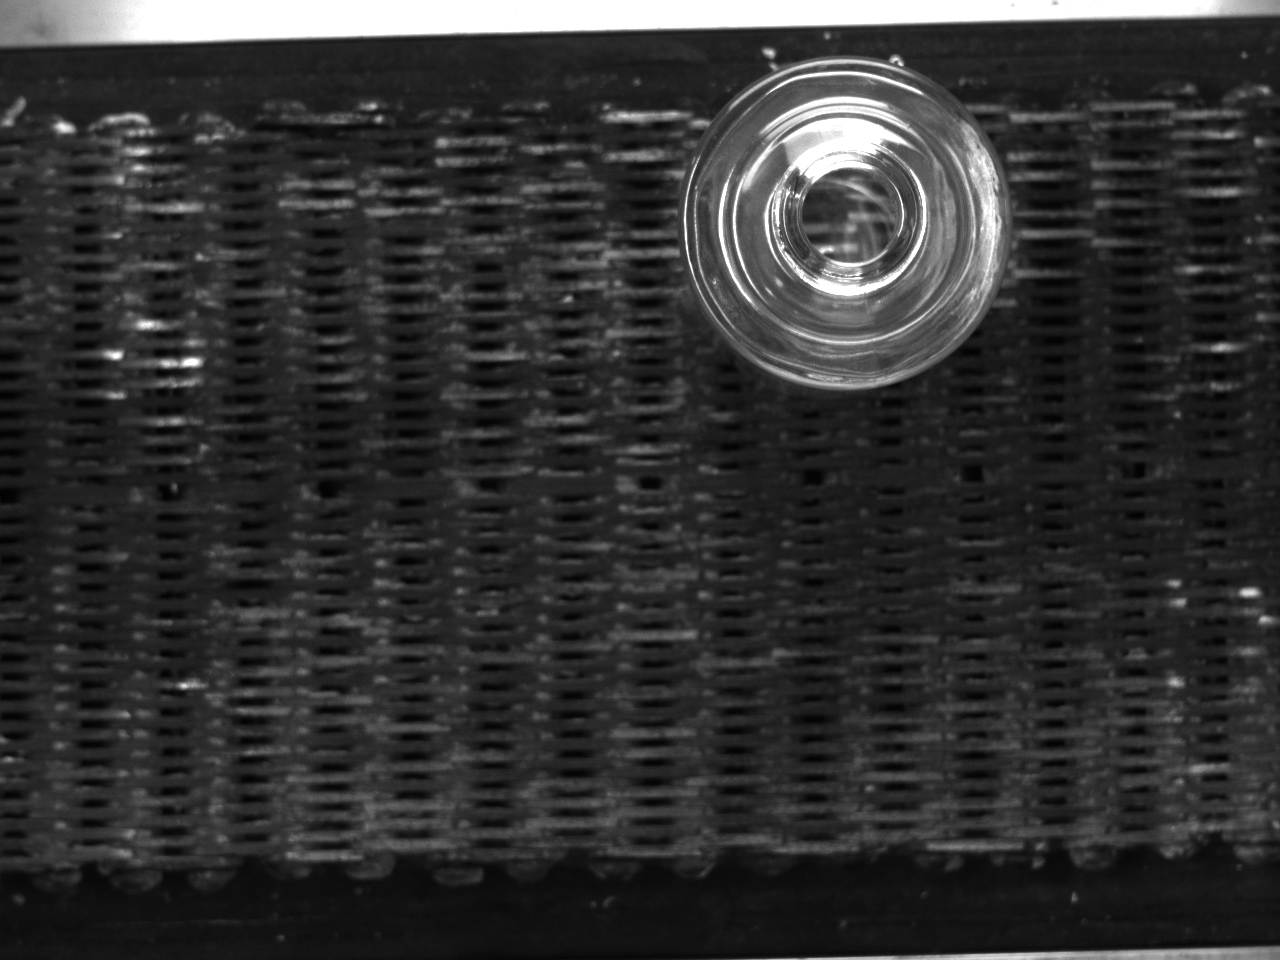bottleneck: (770, 138, 927, 298)
